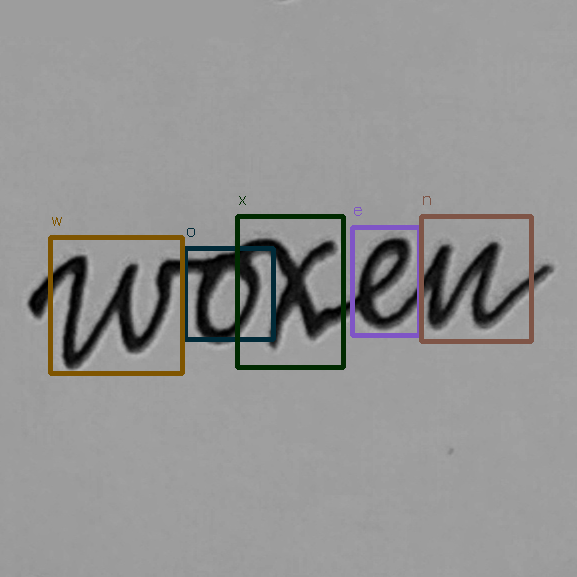e: (353, 233, 417, 333)
n: (423, 232, 505, 337)
o: (188, 246, 262, 349)
w: (46, 248, 179, 370)
x: (238, 234, 340, 352)
